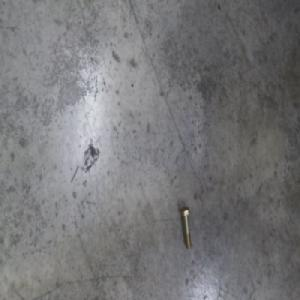Bolt: (177, 205, 190, 250)
